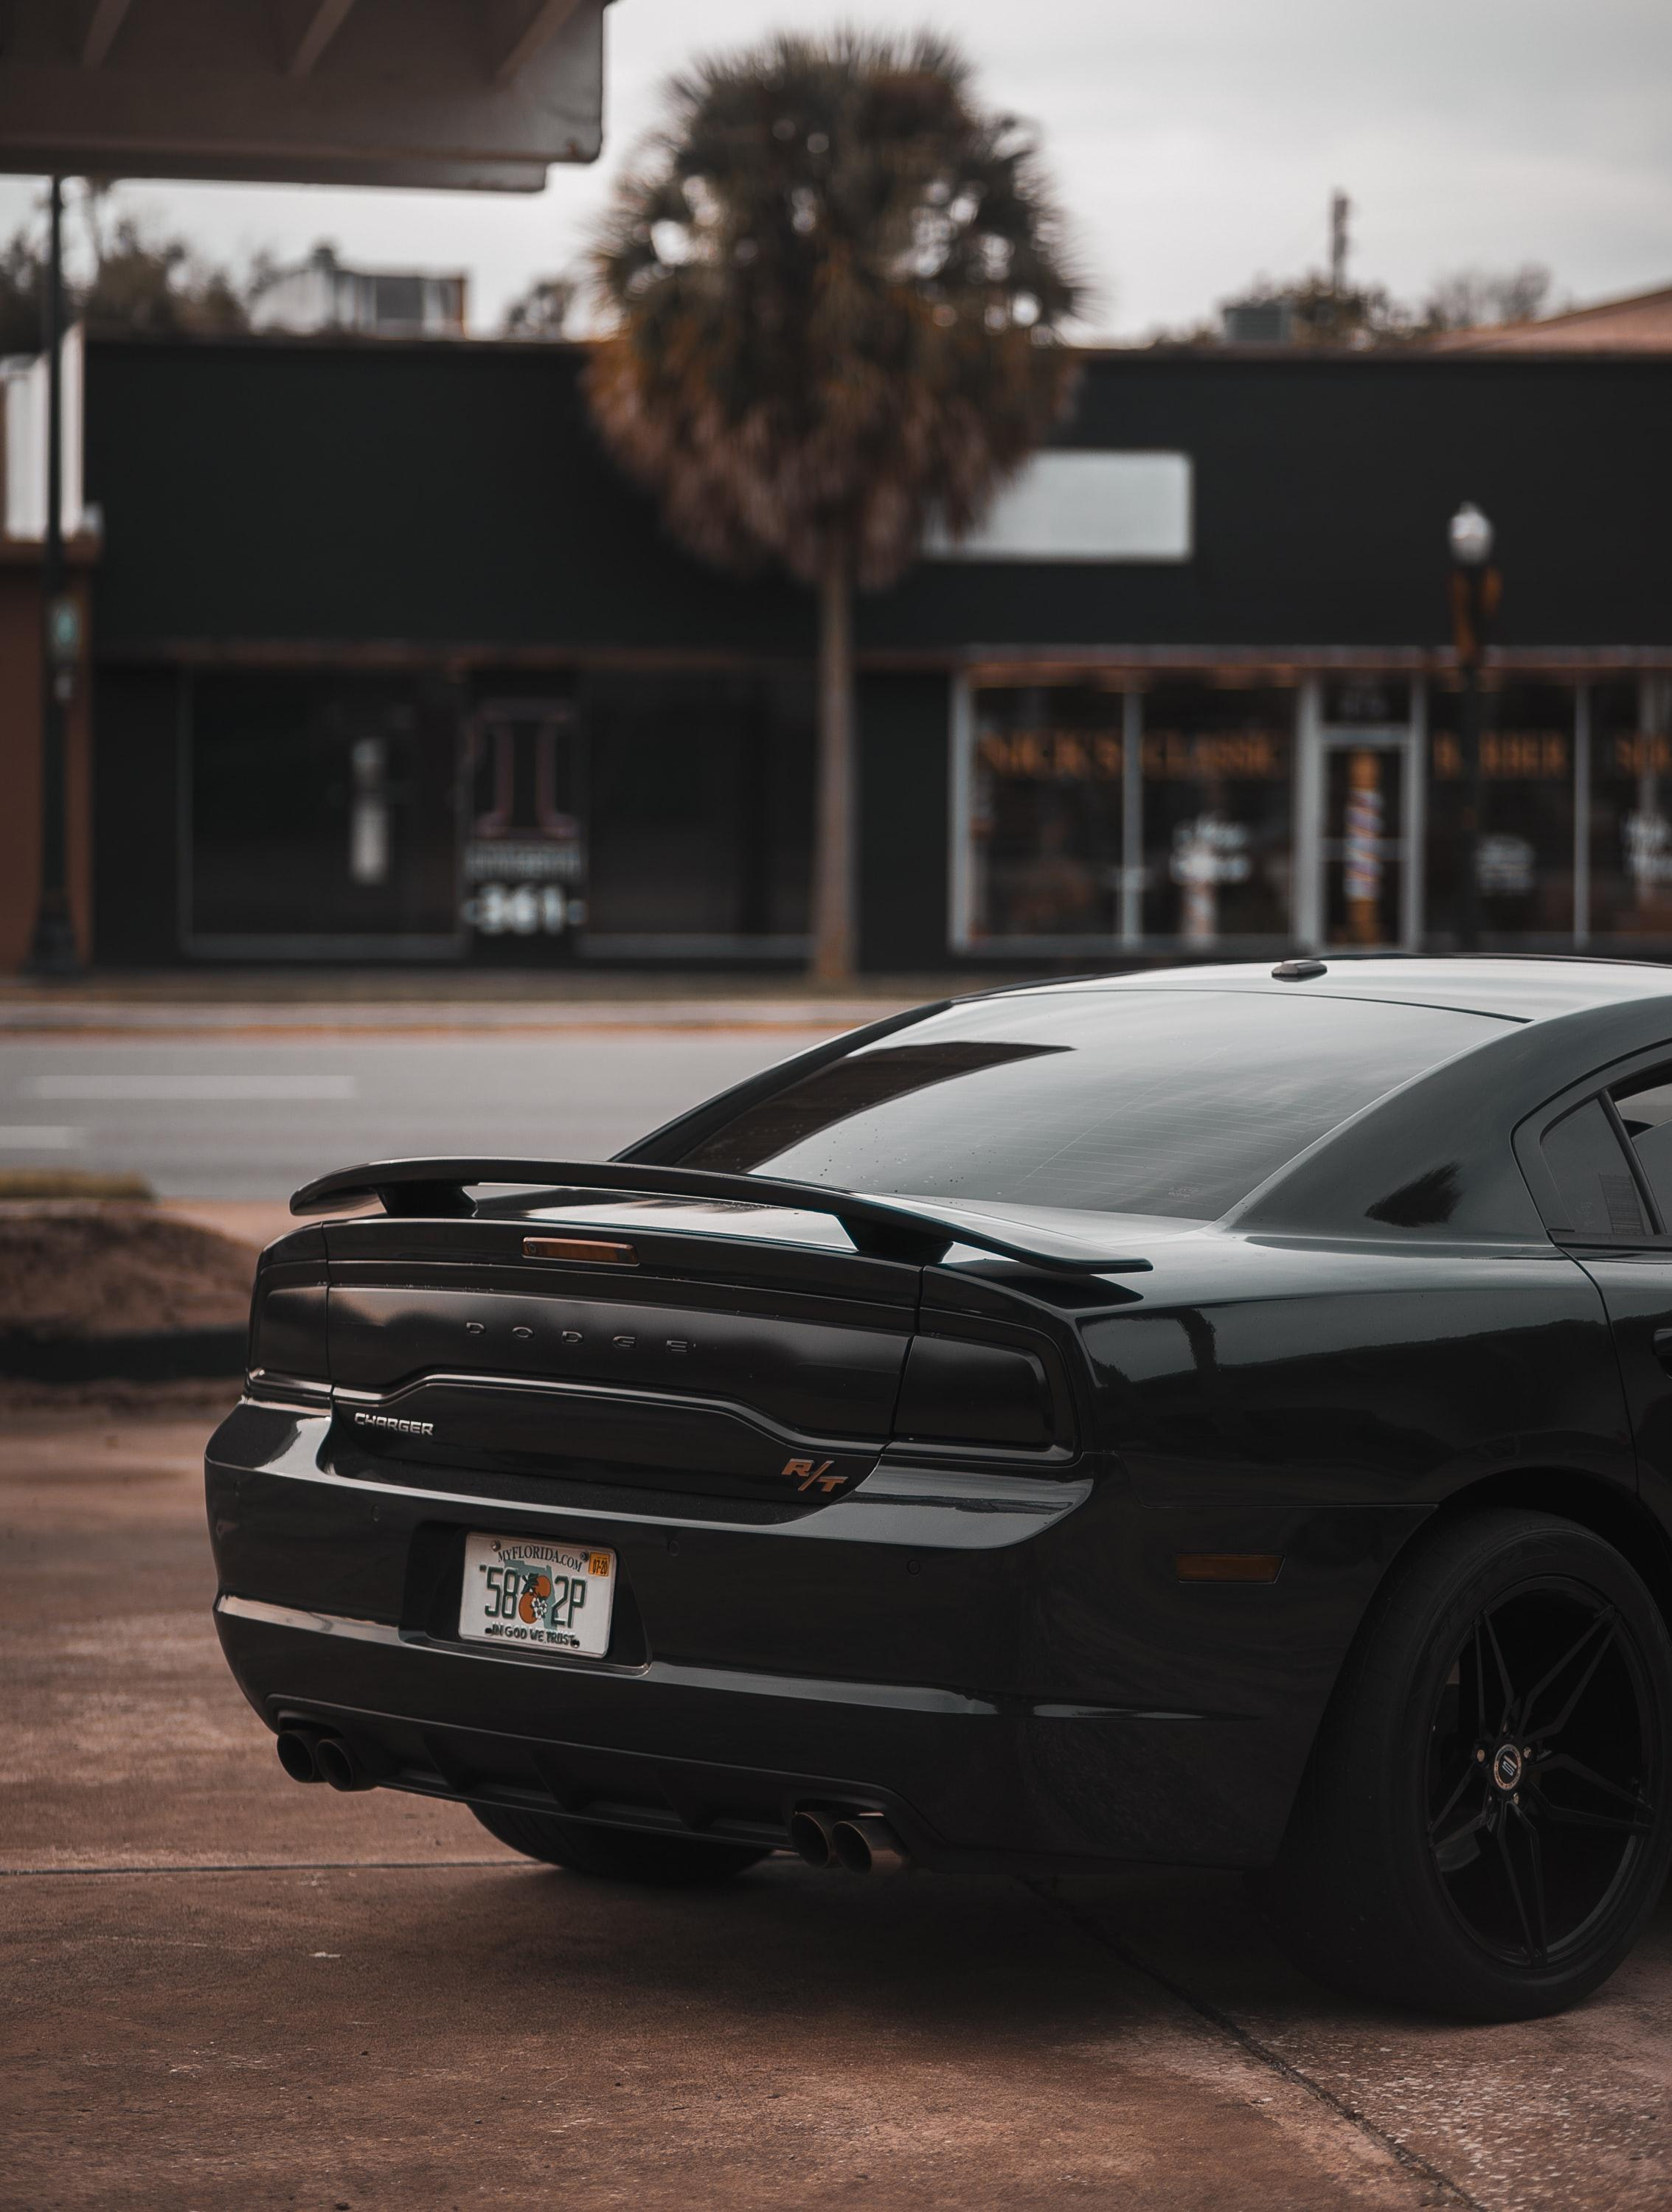dodge: (446, 1296, 710, 1382)
